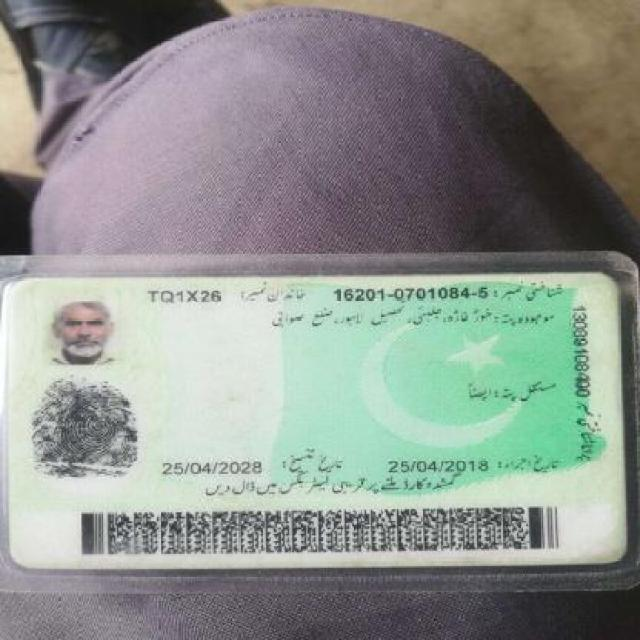Back: (3, 266, 628, 574)
